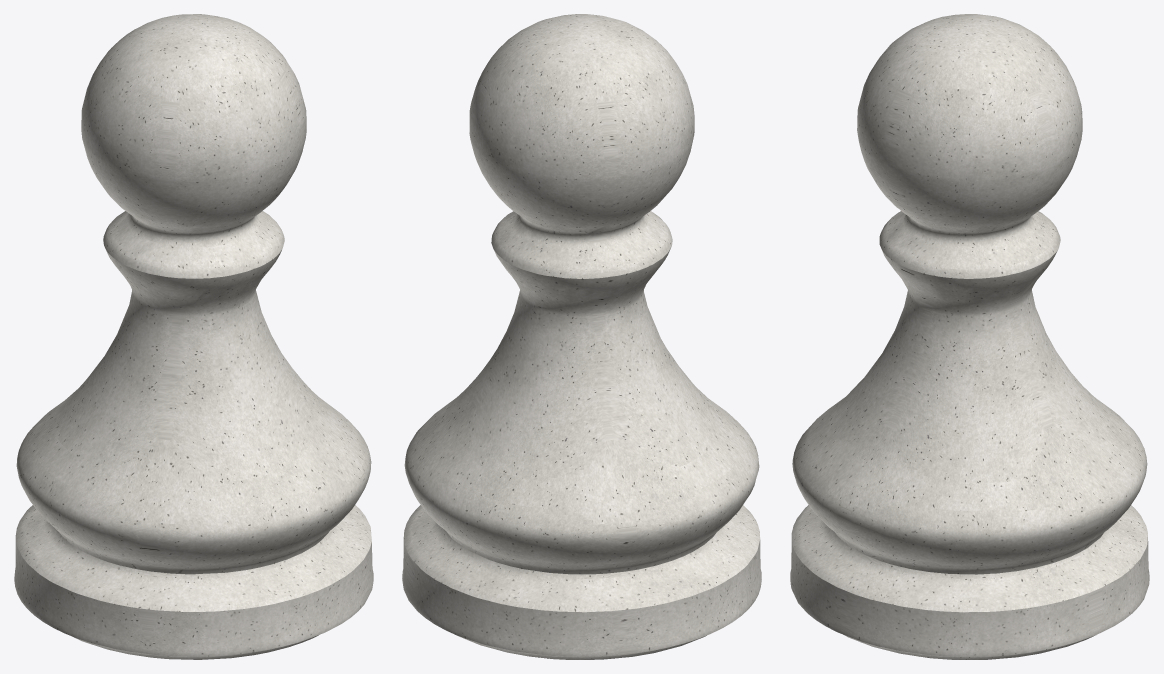
File: pawn-white.glb
The picture shows the model from 3 angles, left to right: view 1: azimuth 30°, elevation 25°; view 2: azimuth 150°, elevation 25°; view 3: azimuth 270°, elevation 25°; orthographic projection.
Visible parts, largest first — view 1: pesec_bila; view 2: pesec_bila; view 3: pesec_bila.
Boxes of the visible parts, x1,y1,x2,y2 form: pesec_bila: (14,14,373,659); pesec_bila: (402,14,761,659); pesec_bila: (790,14,1149,659).
Bounding box in the file's own units: 0.4943 × 0.8698 × 0.4945.
1 material, 1 textured.
